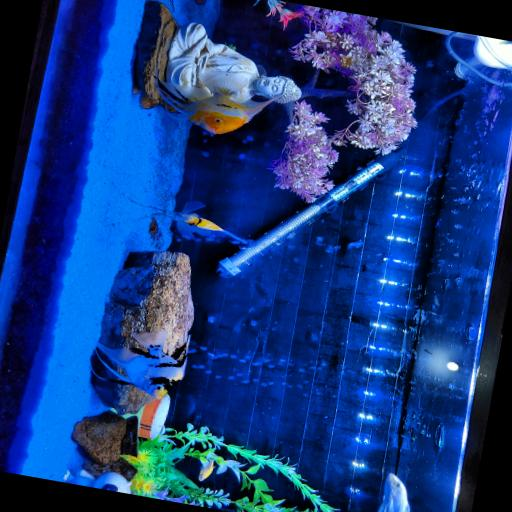Fish: (93, 328, 189, 398), (157, 77, 273, 133), (151, 201, 247, 242), (377, 473, 409, 511), (198, 459, 213, 480), (170, 0, 173, 11)
